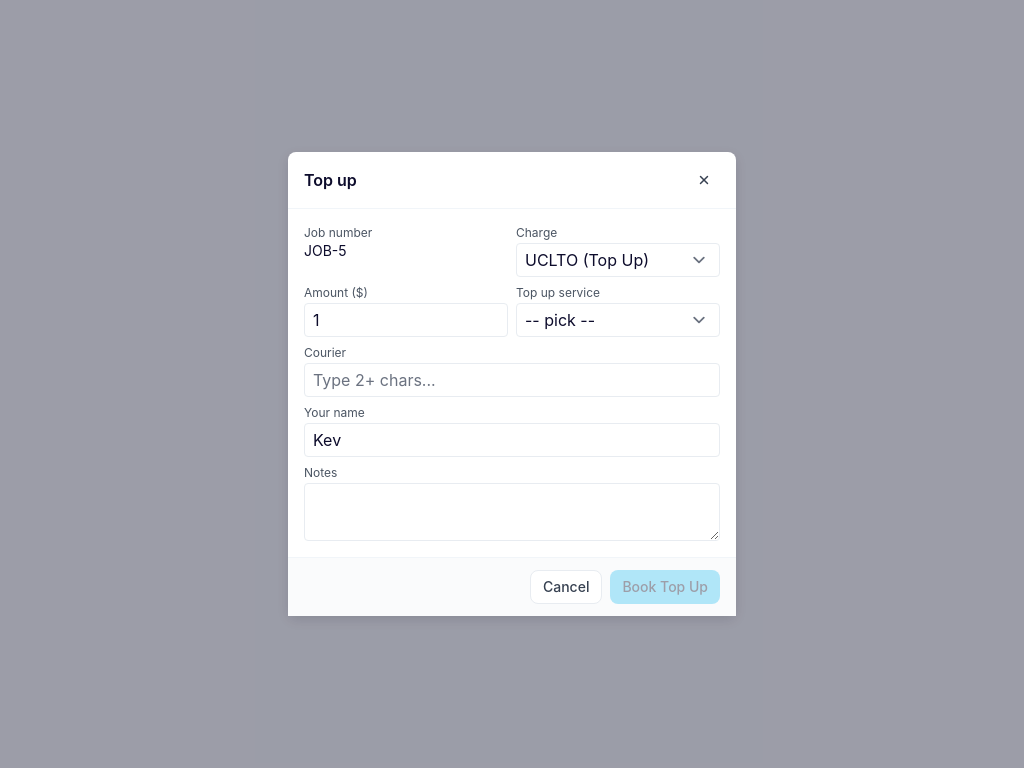
Test: TopUpDialog › shows error on 500
Select "FRT" in the dropdown labelled "Top up service" at (618, 320), box [516,303,720,337]
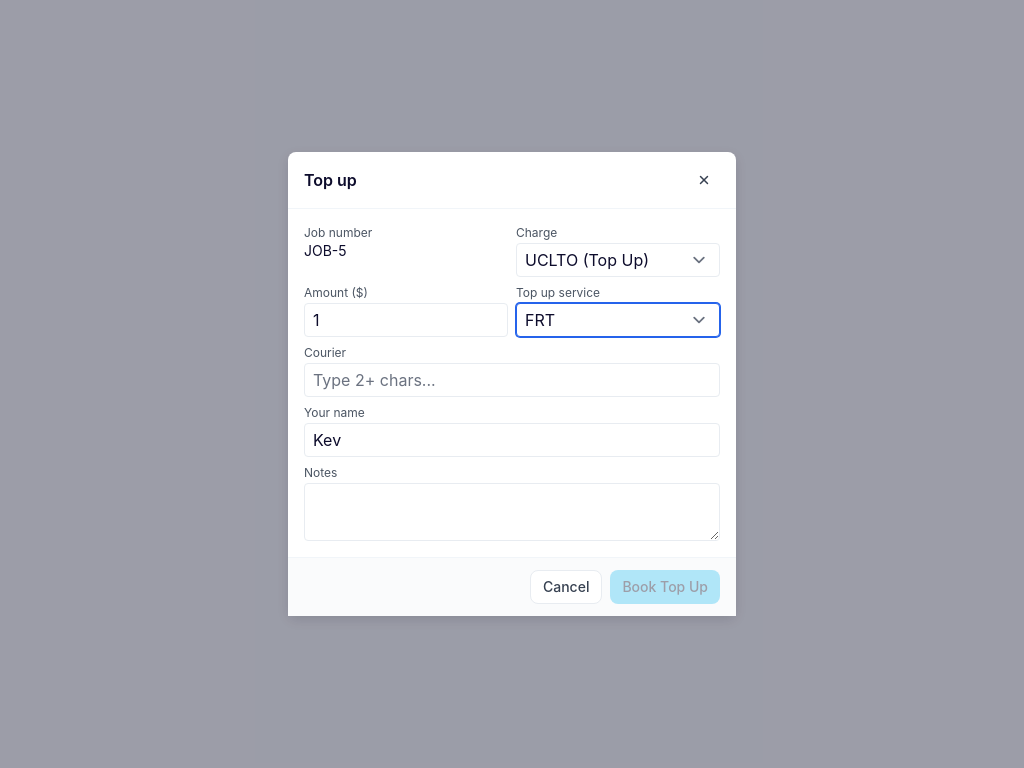
Type "ac" into the field with placeholder "Type 2+ chars..." at (512, 380), box [304,363,720,397]
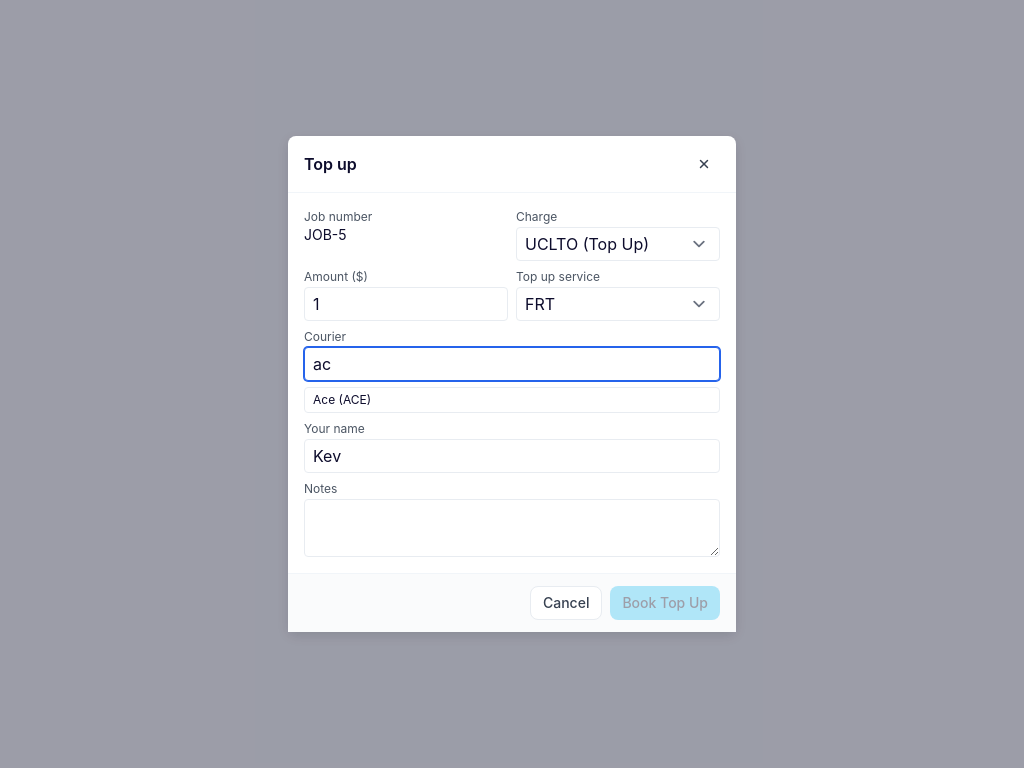
Click the button "Ace (ACE)" at (324, 400), box [305,388,719,412]
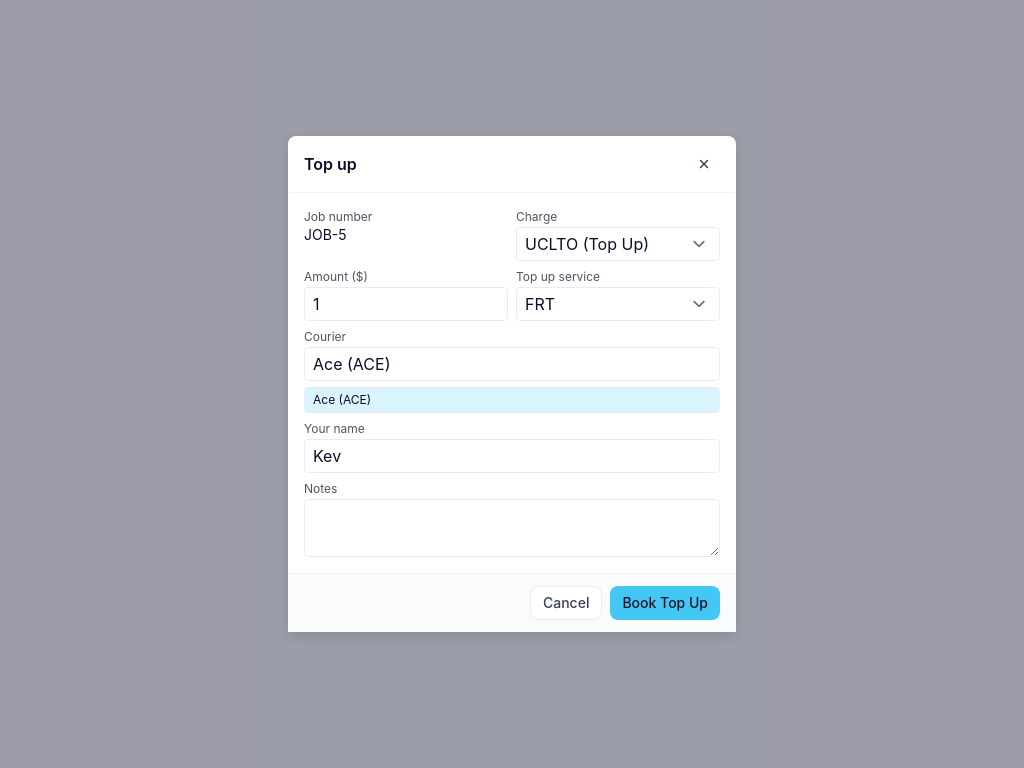
Click the button "Book Top Up" at (665, 603), box [610,586,720,620]
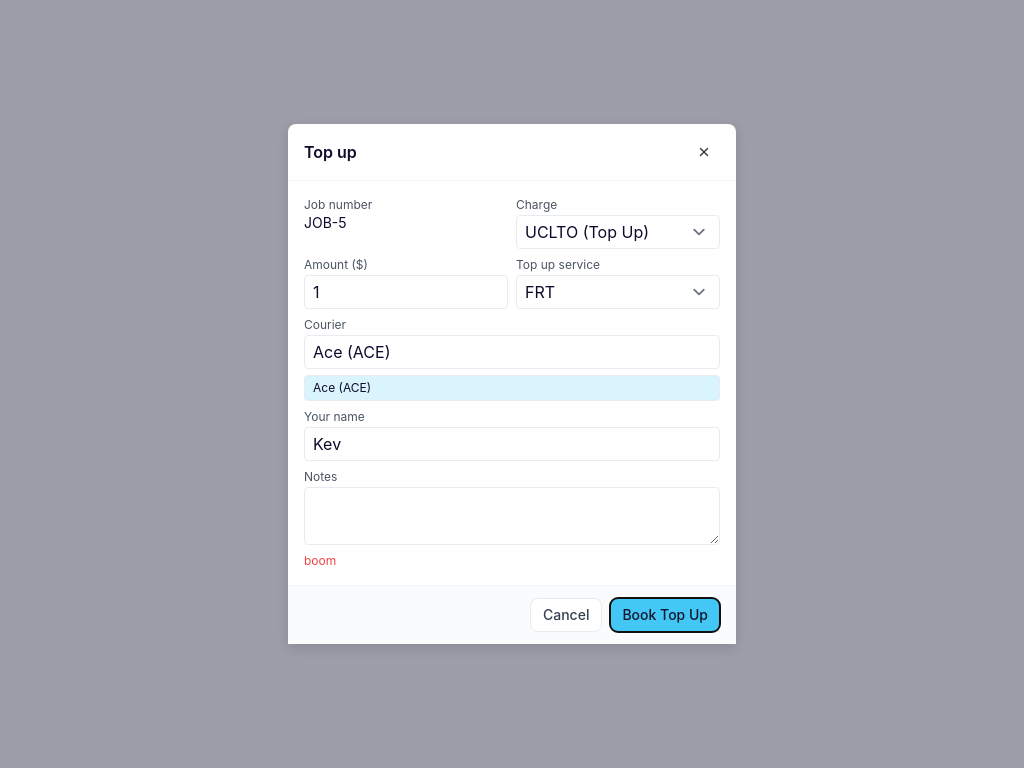
Check: the text "boom" is shown, box [304,553,336,568]
